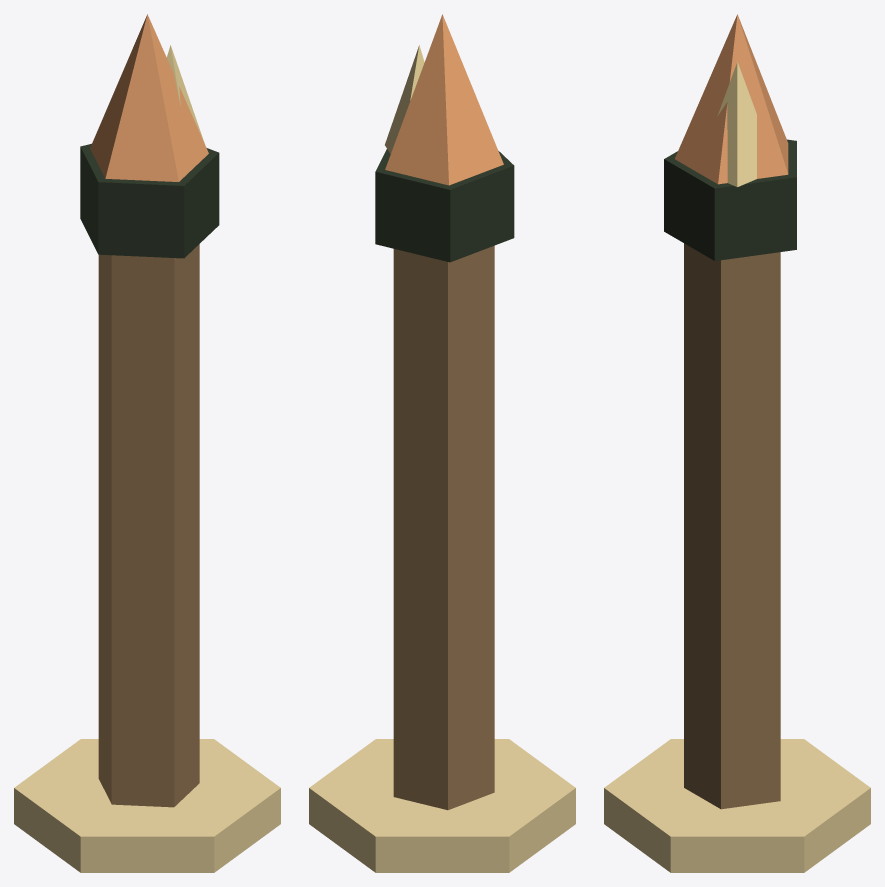
Rendered from torch.glb.
3 renders of one model, left to right at view 1: azimuth 30°, elevation 25°; view 2: azimuth 150°, elevation 25°; view 3: azimuth 270°, elevation 25°, orthographic.
Visible parts, largest first — view 1: jungle-torch; view 2: jungle-torch; view 3: jungle-torch.
Part boxes in pixels (<box>): jungle-torch: <box>14,14,280,872</box>; jungle-torch: <box>309,14,575,872</box>; jungle-torch: <box>604,14,870,872</box>.
Size of the model in its own units: 0.1732 by 0.67 by 0.2.
